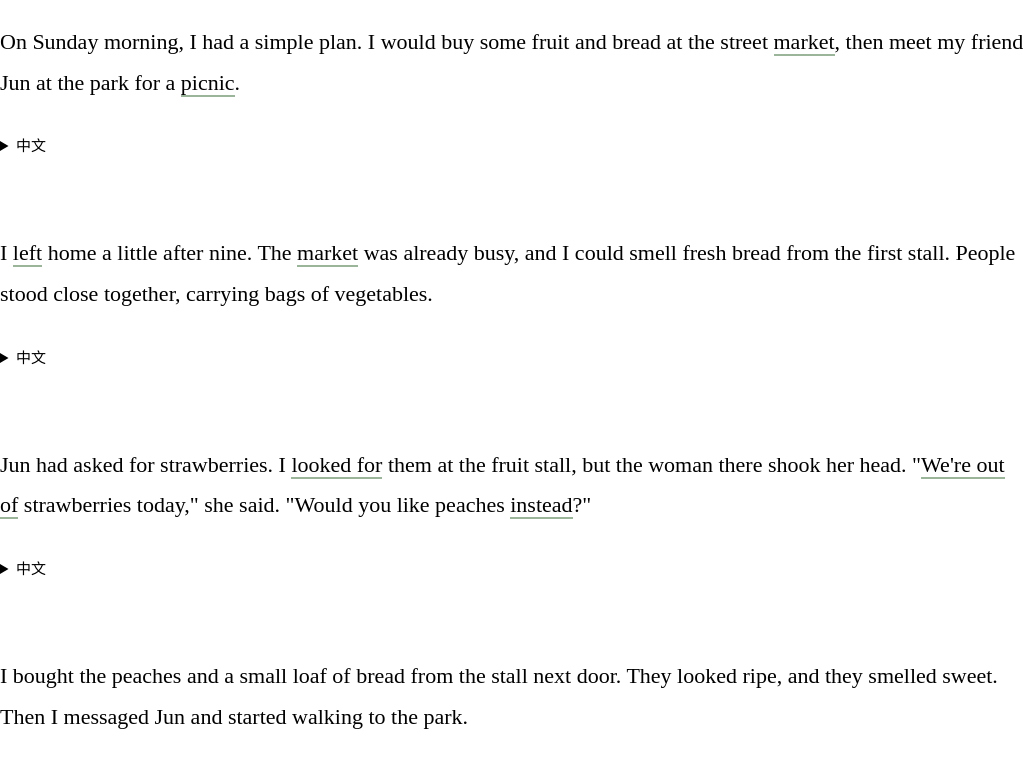
Test: shows a catalog word's meaning immediately without a reveal button or duplicated part of speech
The width and height of the screenshot is (1024, 768).
Click the 1st text with class "doli-tap": coordinates (804, 42) [774, 29, 835, 56]
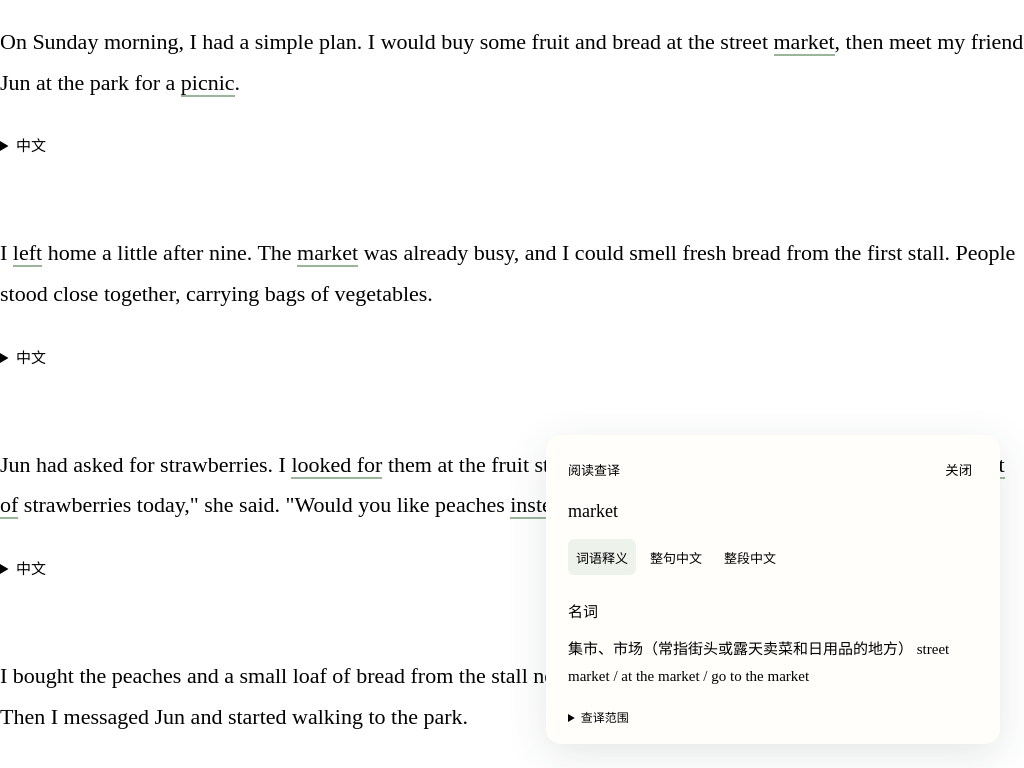
Expected: the dialog is shown, [546, 435, 1000, 744]
Expected: the text with class "doli-lookup-meaning" shows "集市、市场（常指街头或露天卖菜和日用品的地方）", [568, 641, 913, 657]
Expected: the dialog shows "名词", [568, 604, 598, 620]
